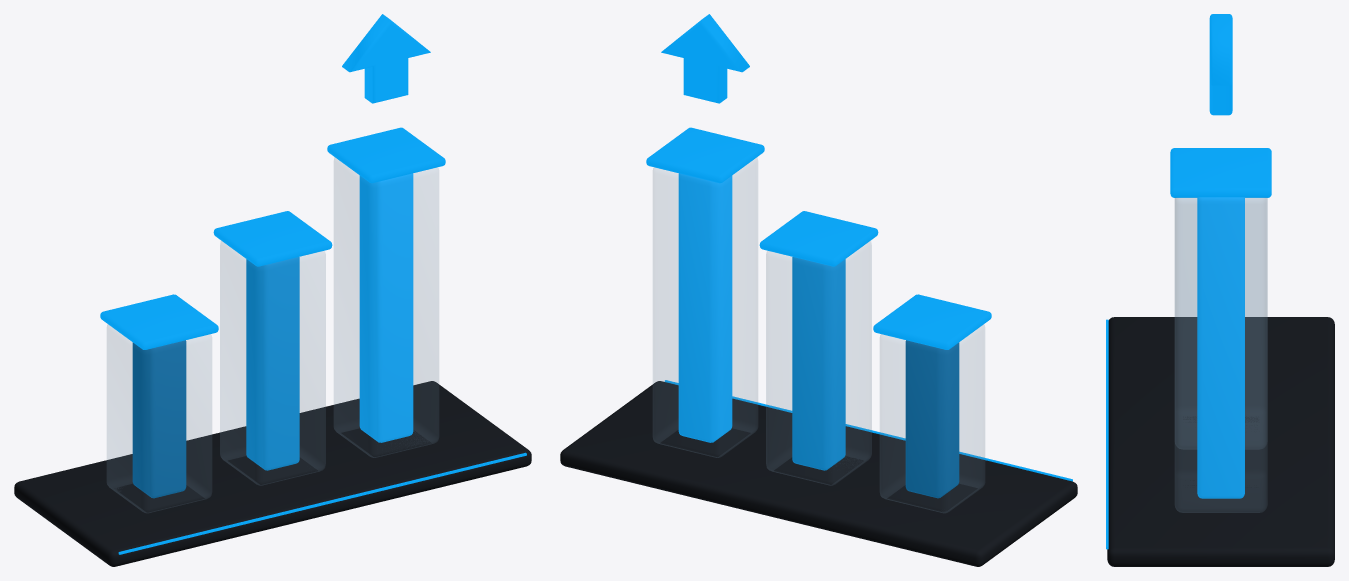
File: rates.glb
3 views of the same model, side by side, from view 1: azimuth 30°, elevation 25°; view 2: azimuth 150°, elevation 25°; view 3: azimuth 270°, elevation 25° (orthographic). The views are drawn at different scales.
Parts seen in each view (by area): view 1: rates_body, arrow; view 2: rates_body, arrow; view 3: rates_body, arrow.
Boxes of the visible parts, box(x1,y1,x2,y2) form: rates_body: box(14, 127, 531, 566); arrow: box(342, 14, 430, 103); rates_body: box(560, 127, 1077, 566); arrow: box(661, 14, 749, 103); rates_body: box(1106, 148, 1334, 566); arrow: box(1209, 14, 1232, 115).
Size of the model in its own units: 5.4 by 5.34 by 2.21.
